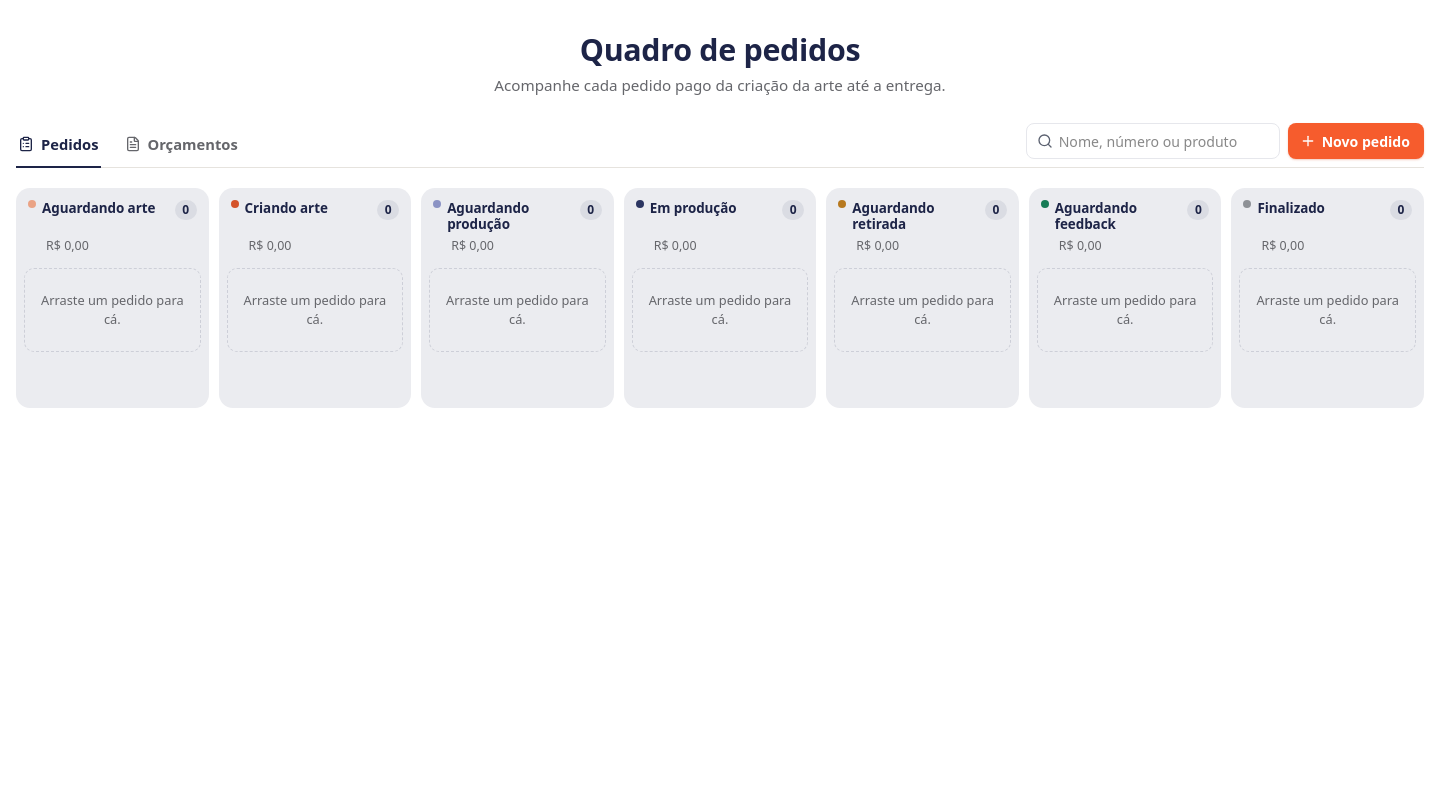
it: painel: aba Orçamentos › Fechar Orçamento aparece somente em Aguardando pagamento e abre pagamento/entrega
Step 1. Click the tab "Orçamentos" → [181, 146], box [122,123,240,168]
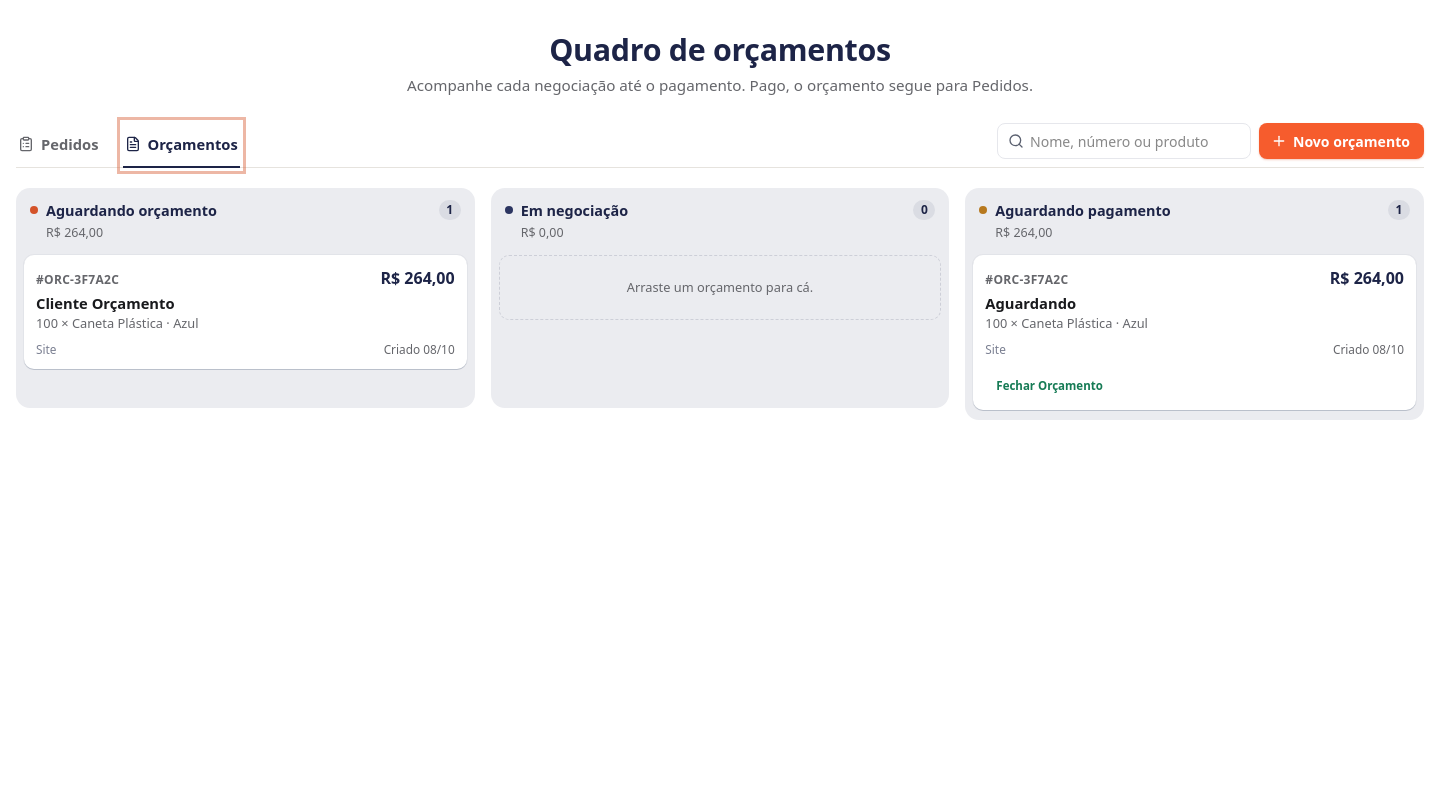
Step 2. Click the button "Fechar Orçamento" → [1050, 385], box [985,370,1114,400]
(page scrolled)
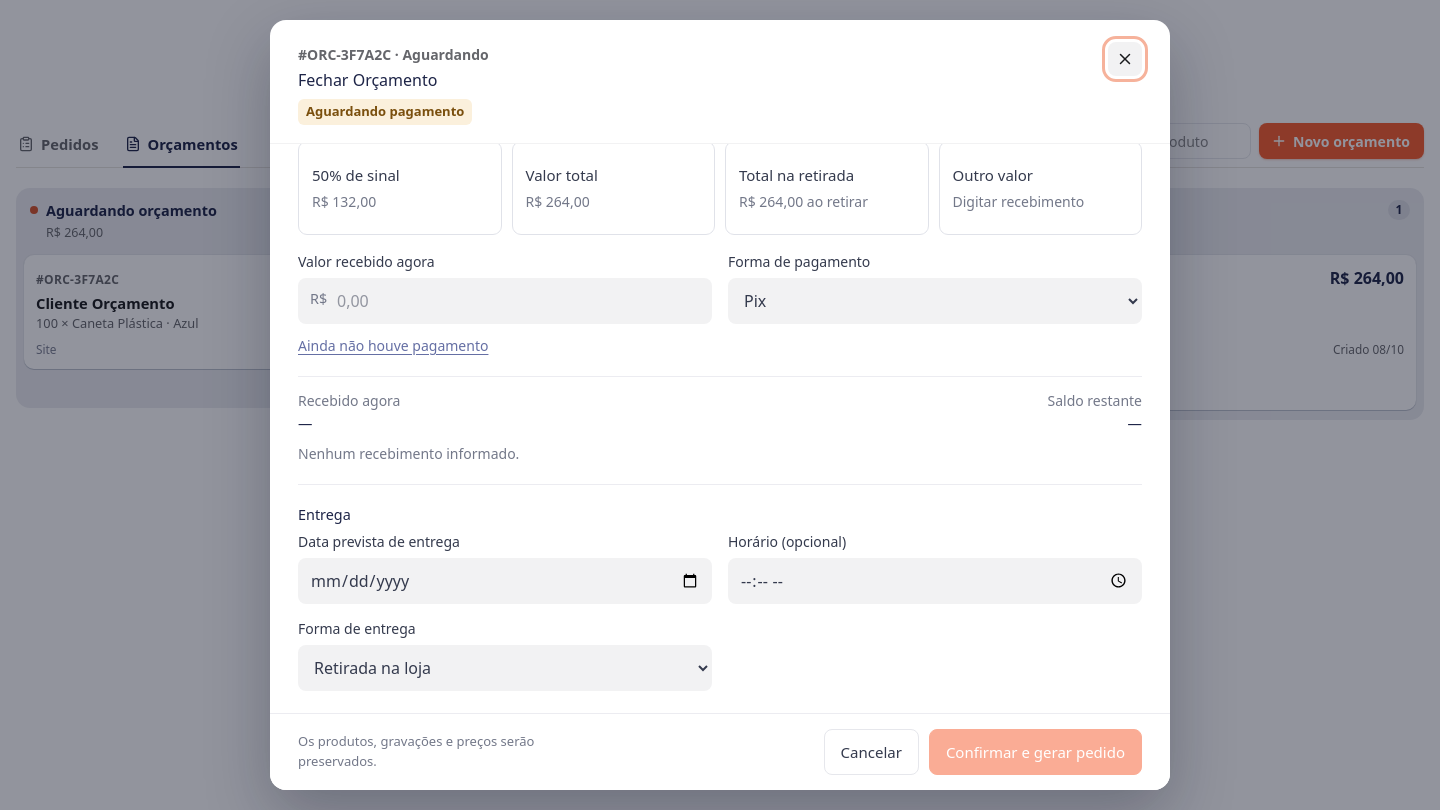
expect the field labelled "Valor recebido agora" is shown: met, box [298,278,712,324]
expect the date field labelled "Data prevista de entrega" is shown: met, box [298,558,712,604]
